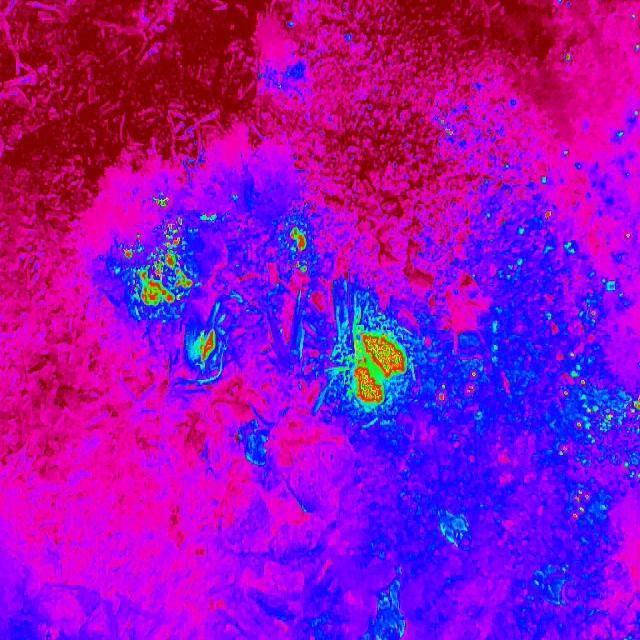fire: (540, 206, 640, 530), (118, 215, 194, 314), (343, 310, 408, 412), (189, 324, 223, 367), (436, 370, 479, 404), (290, 224, 310, 274), (147, 191, 171, 211), (436, 116, 454, 139), (560, 50, 574, 65)
